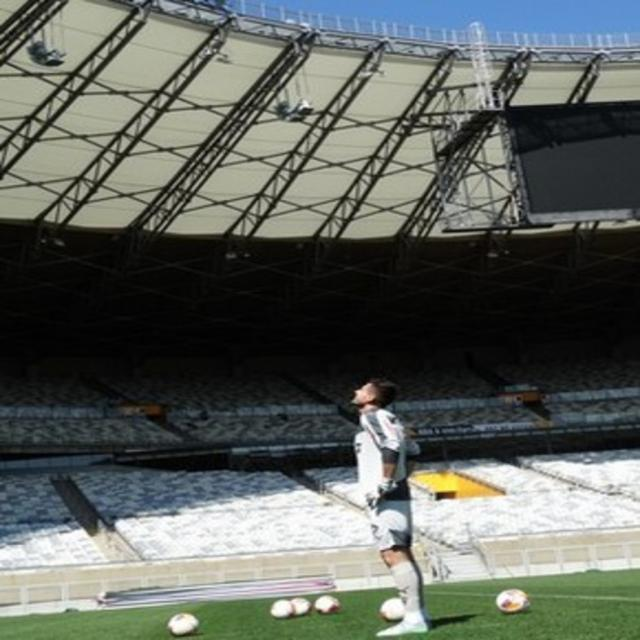football: (152, 585, 204, 640)
